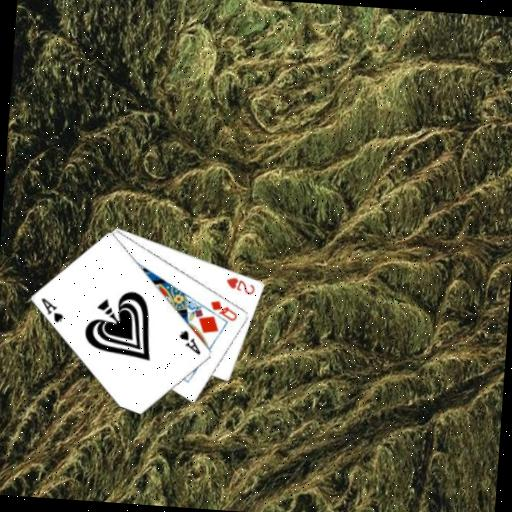2H: (223, 274, 258, 297)
AS: (38, 295, 67, 325), (175, 327, 204, 356)
QD: (206, 297, 240, 323)
